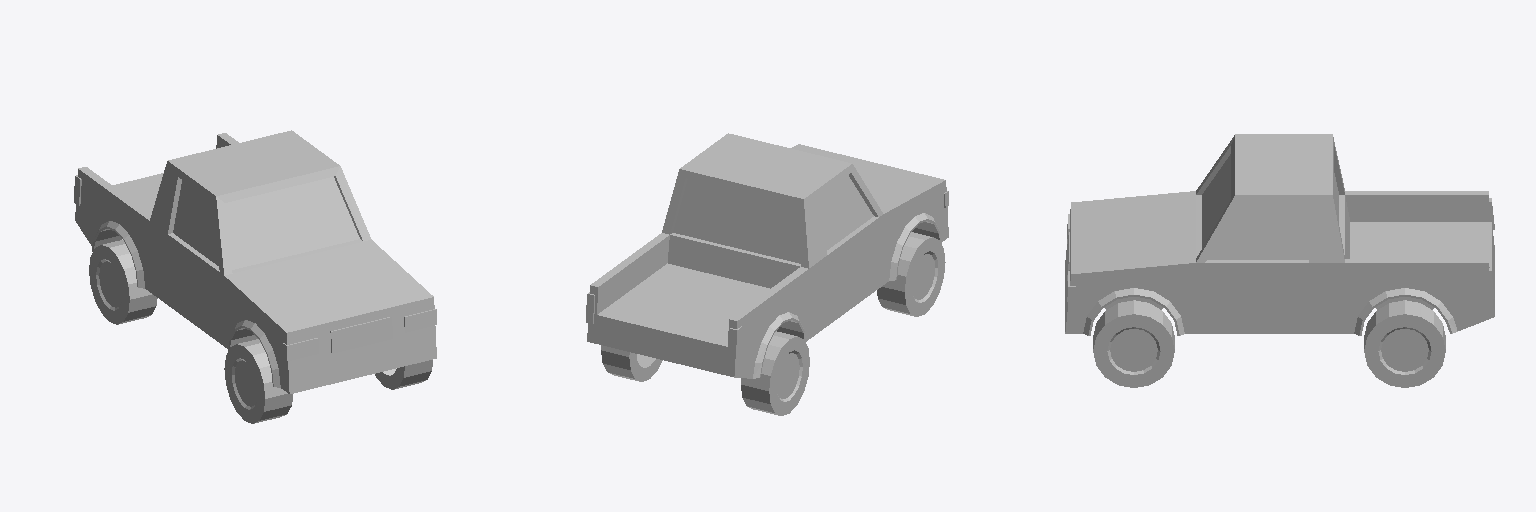
File: car-pickup-silver.obj
3 renders of one model, left to right at view 1: azimuth 30°, elevation 25°; view 2: azimuth 150°, elevation 25°; view 3: azimuth 270°, elevation 25°, orthographic.
Parts seen in each view (by area): view 1: car-pickup-silver_Cube.639; view 2: car-pickup-silver_Cube.639; view 3: car-pickup-silver_Cube.639.
Boxes of the visible parts, x1=… form: car-pickup-silver_Cube.639: x1=74, y1=130, x2=436, y2=423; car-pickup-silver_Cube.639: x1=586, y1=133, x2=948, y2=415; car-pickup-silver_Cube.639: x1=1065, y1=134, x2=1494, y2=387.
Bounding box in the file's own units: 0.8924 × 0.925 × 1.97.